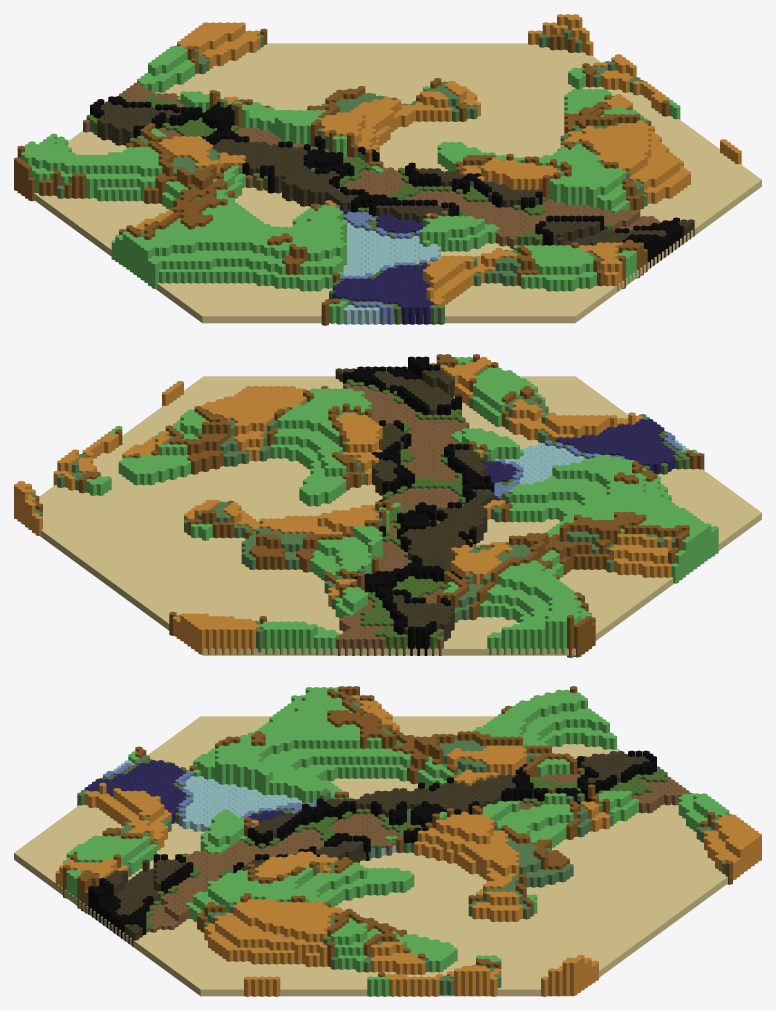
Rendered from 0016_tile_1021221.fbx.
3 views of the same model, one above another, from view 1: azimuth 30°, elevation 25°; view 2: azimuth 150°, elevation 25°; view 3: azimuth 270°, elevation 25° (orthographic).
Parts seen in each view (by area): view 1: Plane; view 2: Plane; view 3: Plane.
Boxes of the visible parts, x1=… form: Plane: x1=14, y1=14, x2=761, y2=325; Plane: x1=14, y1=354, x2=761, y2=657; Plane: x1=14, y1=686, x2=761, y2=996.
Bounding box in the file's own units: 1008 × 67.54 × 1152.
